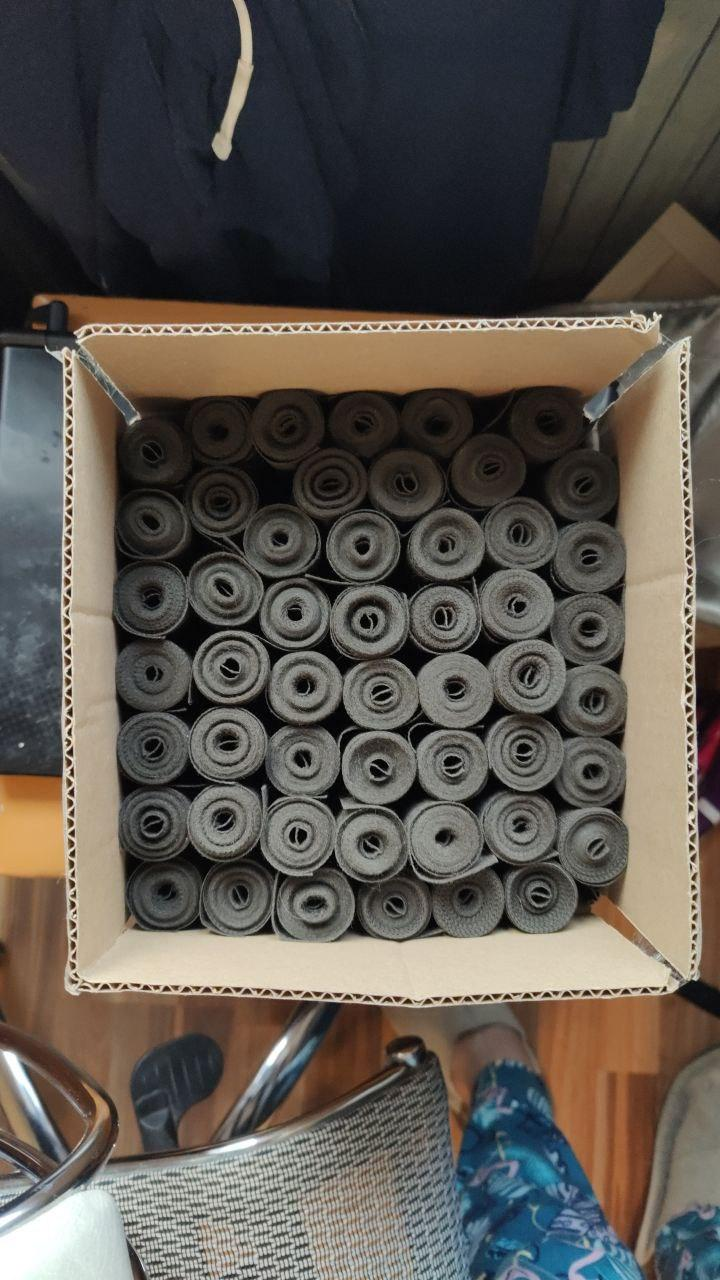roll: (483, 710, 568, 796), (403, 797, 487, 883), (486, 636, 570, 720), (476, 564, 560, 648), (186, 703, 270, 785), (185, 780, 266, 865), (259, 792, 340, 877), (264, 647, 346, 730), (405, 504, 488, 586), (479, 787, 561, 870), (506, 383, 590, 464), (448, 431, 530, 513), (541, 446, 623, 528), (111, 558, 192, 641), (328, 582, 410, 663), (414, 650, 496, 731), (185, 549, 266, 631), (190, 627, 271, 709), (365, 446, 447, 527), (548, 517, 629, 599), (548, 590, 628, 673), (198, 857, 278, 940), (272, 865, 355, 945), (263, 719, 344, 800), (339, 728, 420, 809), (324, 507, 405, 588), (249, 387, 328, 470), (554, 804, 632, 888), (413, 725, 493, 806), (481, 495, 561, 575), (340, 655, 421, 734), (333, 802, 412, 883), (501, 856, 580, 937), (112, 637, 192, 716), (115, 709, 194, 789), (113, 485, 192, 565), (256, 574, 334, 655), (406, 578, 485, 657), (241, 501, 320, 580), (291, 447, 370, 526), (118, 784, 195, 864), (555, 662, 632, 741), (125, 856, 204, 933), (554, 732, 630, 811), (184, 464, 259, 543), (117, 416, 194, 492), (429, 865, 506, 941), (325, 389, 402, 464), (399, 386, 476, 461), (355, 871, 433, 944), (185, 394, 256, 470)
